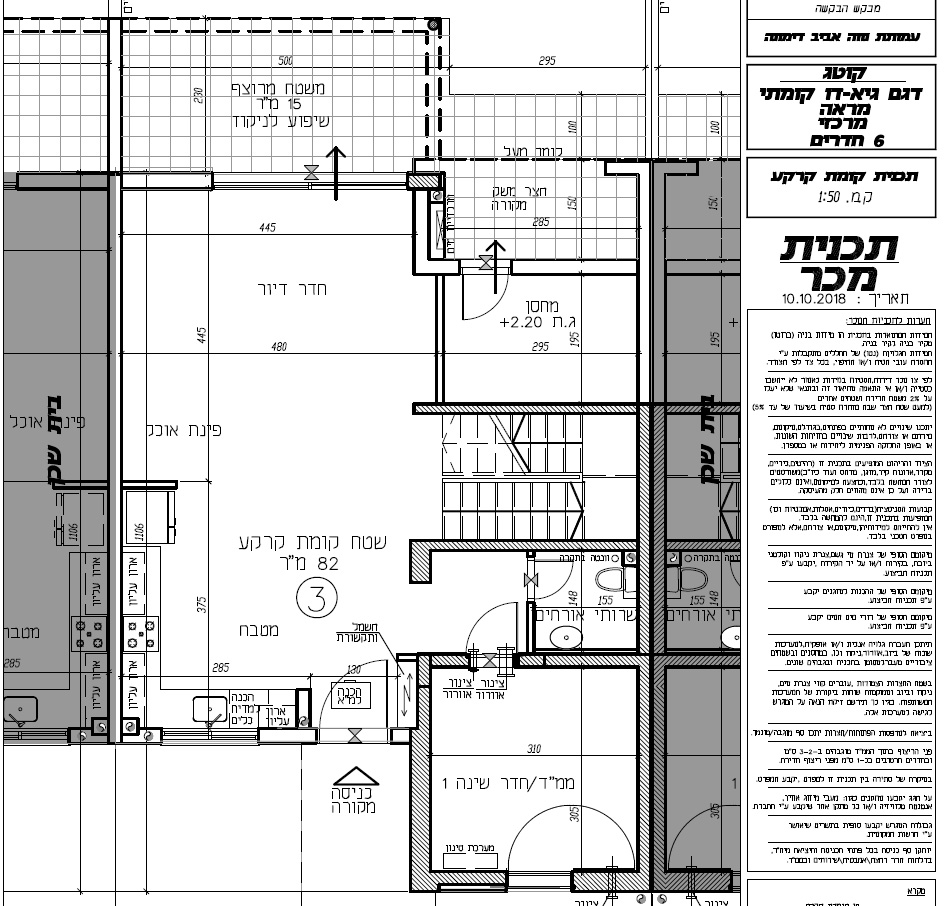door: (458, 279, 508, 325), (474, 596, 524, 642)
rd: (741, 1, 938, 906)
wall: (632, 401, 652, 874), (408, 402, 636, 417), (410, 751, 429, 891)
